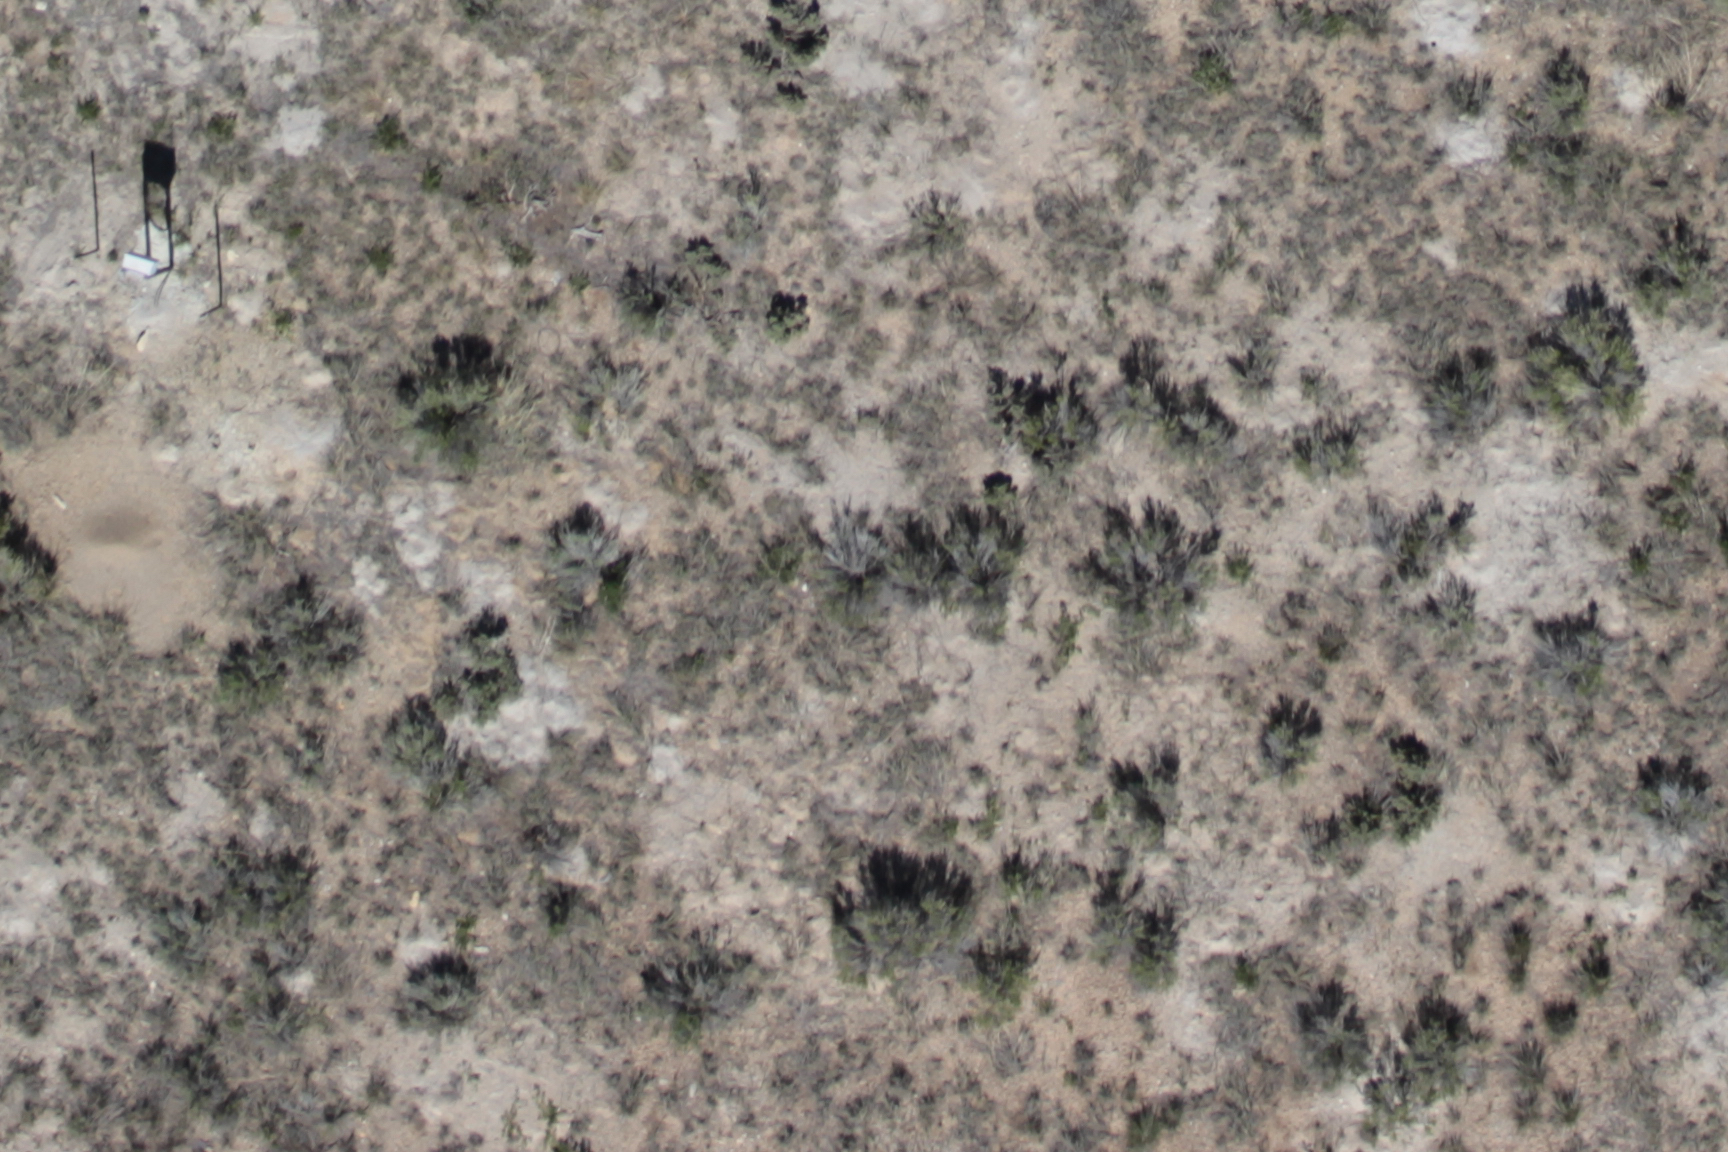burrow: (60, 495, 181, 591)
